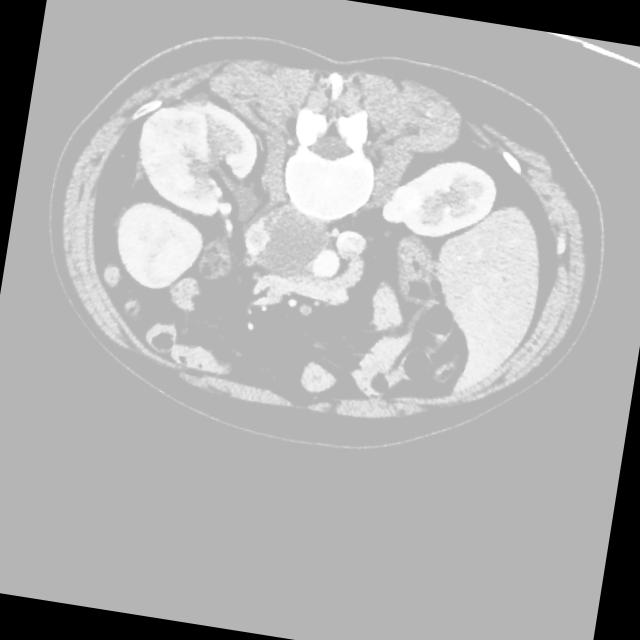TUMOR: (71, 194, 456, 397)
